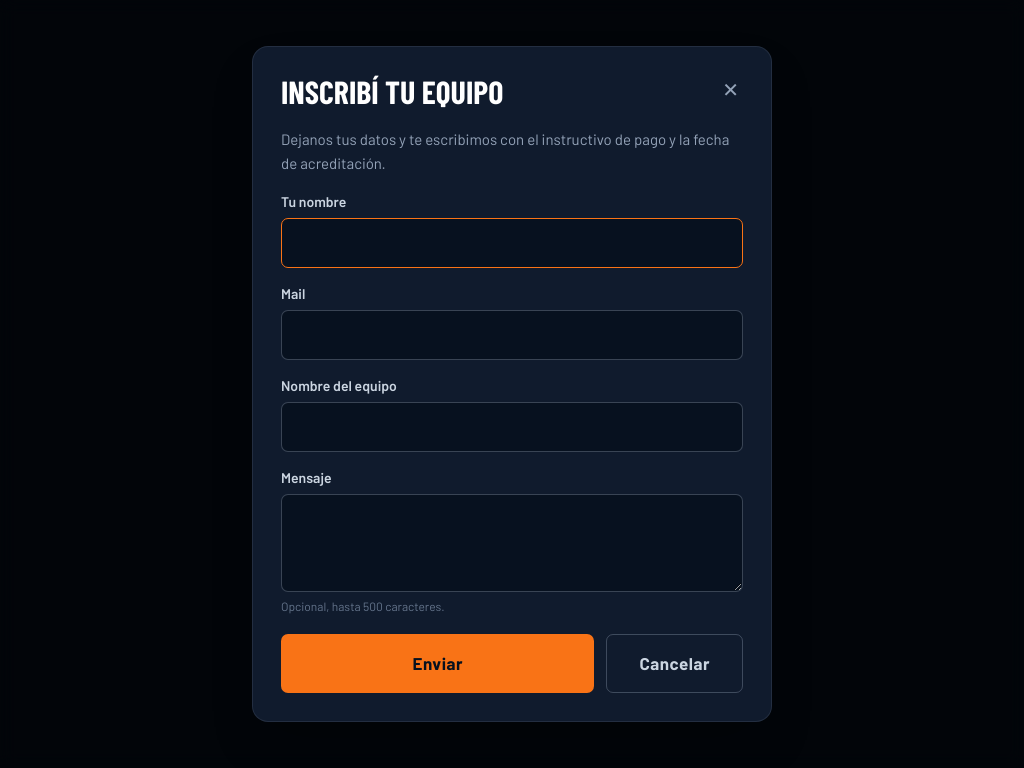
it: RegistrationModal › muestra los errores al enviar vacío y no confirma
The width and height of the screenshot is (1024, 768).
Click the button "Enviar": (438, 663) [281,634,594,693]
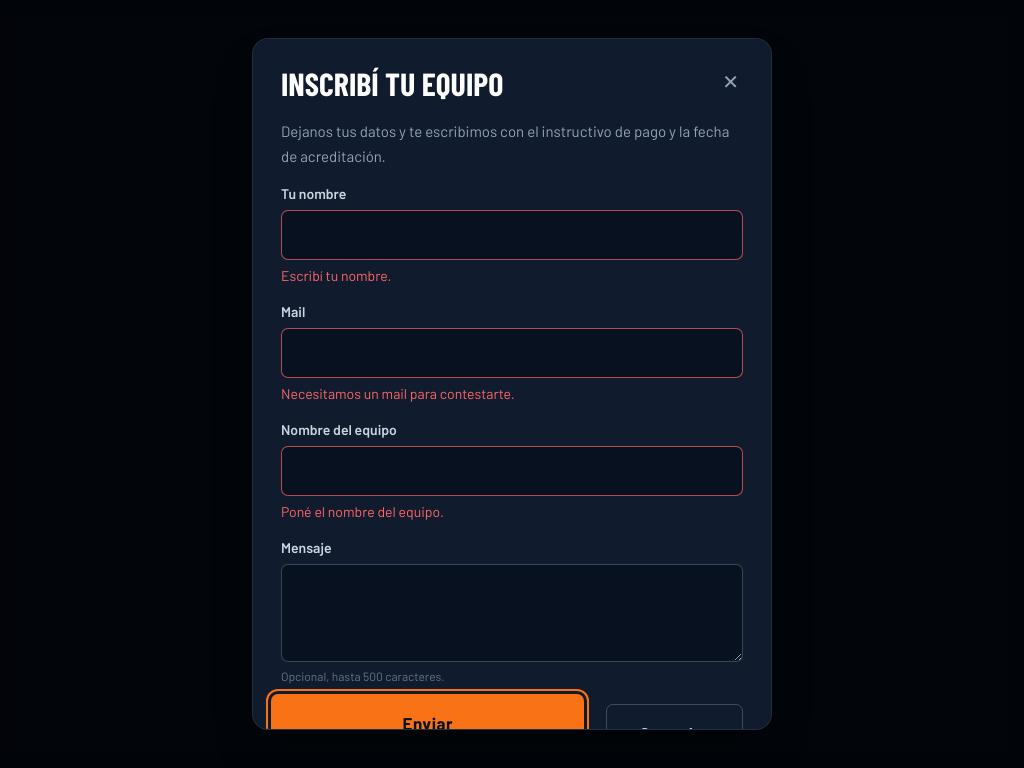
Now the text "Escribí tu nombre." is shown, box [281,267,391,284]
Now the text "Necesitamos un mail para contestarte." is shown, box [281,385,515,402]
Now the text "Poné el nombre del equipo." is shown, box [281,503,444,520]
